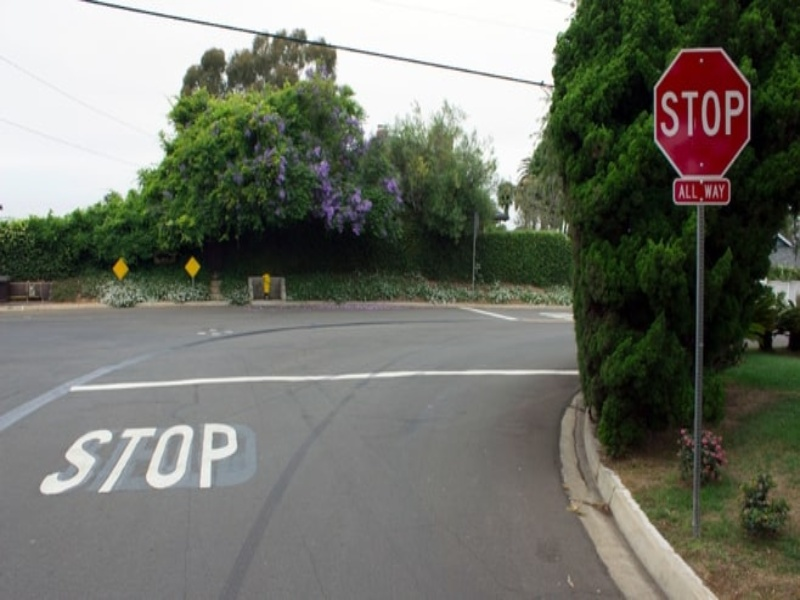stop sign: (649, 46, 754, 180)
